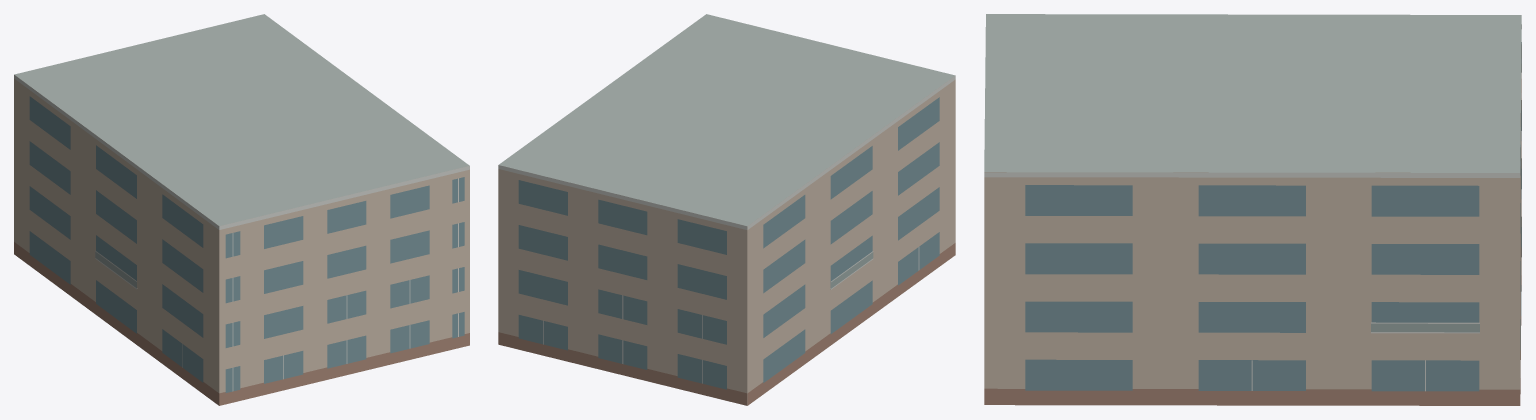
The model's file is survey-upis-32814261.glb.
3 renders of one model, left to right at view 1: azimuth 30°, elevation 25°; view 2: azimuth 150°, elevation 25°; view 3: azimuth 270°, elevation 25°, orthographic. The views are drawn at different scales.
Parts seen in each view (by area): view 1: survey-upis-32814261.tmp; view 2: survey-upis-32814261.tmp; view 3: survey-upis-32814261.tmp.
Part boxes in pixels (left/top/right/bottom): survey-upis-32814261.tmp: left=14, top=14, right=469, bottom=405; survey-upis-32814261.tmp: left=498, top=14, right=955, bottom=405; survey-upis-32814261.tmp: left=984, top=14, right=1521, bottom=405.
Bounding box in the file's own units: 16.43 × 11.2 × 23.44.
